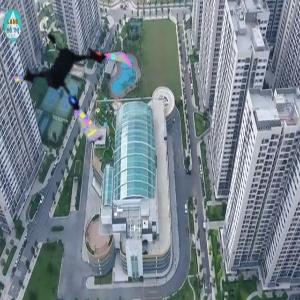drone: (15, 17, 143, 145)
